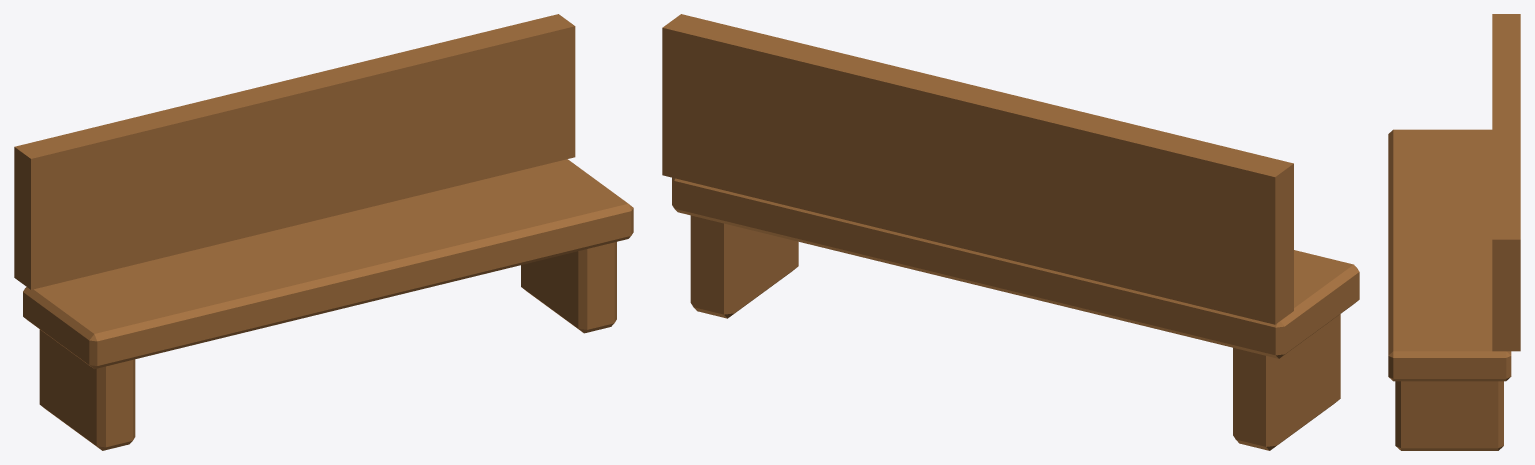
Rendered from prop_pew_88eb.glb.
3 renders of one model, left to right at view 1: azimuth 30°, elevation 25°; view 2: azimuth 150°, elevation 25°; view 3: azimuth 270°, elevation 25°, orthographic. The views are drawn at different scales.
Visible parts, largest first — view 1: prop_pew_88eb; view 2: prop_pew_88eb; view 3: prop_pew_88eb.
Part boxes in pixels (x1,y1,x2,y2): prop_pew_88eb: [14, 14, 633, 450]; prop_pew_88eb: [662, 14, 1359, 450]; prop_pew_88eb: [1388, 14, 1520, 450].
Size of the model in its own units: 0.9988 by 0.4508 by 0.2475.
Materials: 1 (1 with a texture image).
